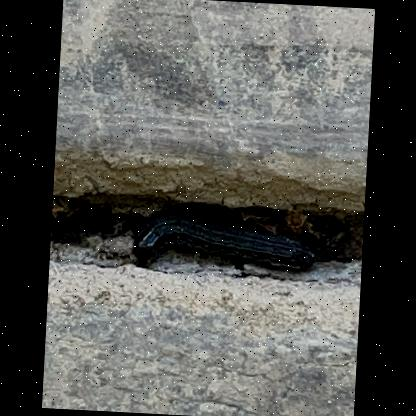Fall Armyworm Larvae: (127, 206, 320, 280)
